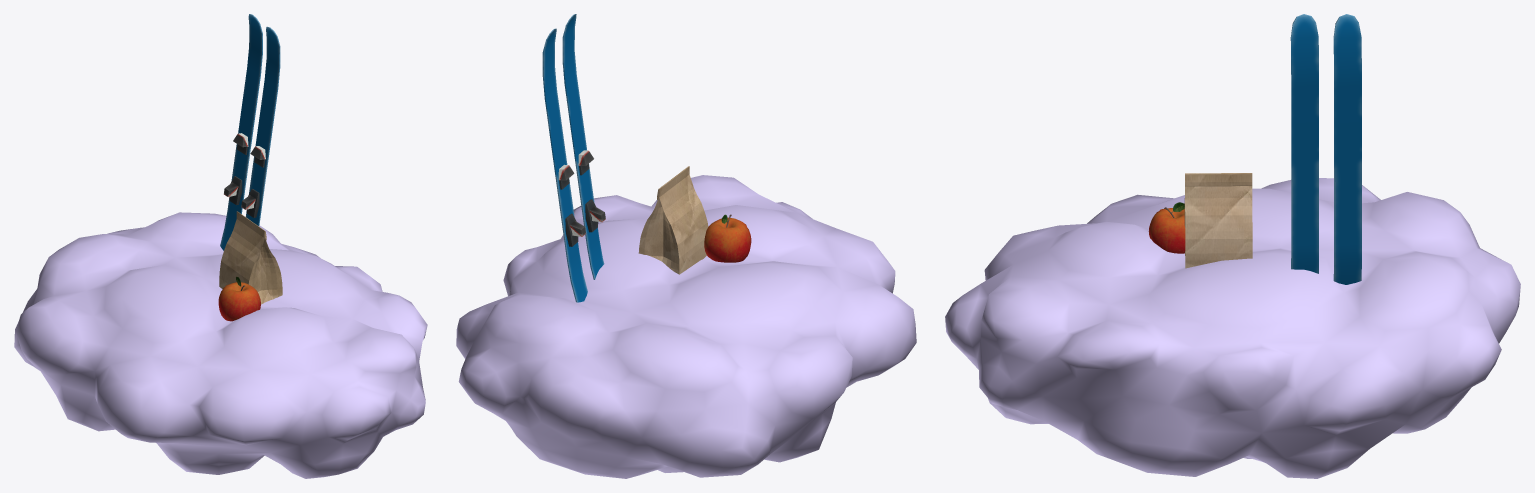
File: ski-coloured-CA24nZ64.glb
3 renders of one model, left to right at view 1: azimuth 30°, elevation 25°; view 2: azimuth 150°, elevation 25°; view 3: azimuth 270°, elevation 25°, orthographic. The views are drawn at different scales.
Visible parts, largest first — view 1: Object_3, Cube_0, ski1, ski1_initialShadingGroup1_0.001, Cube.001; view 2: Object_3, Cube_0, ski1, ski1_initialShadingGroup1_0.001, Cube.001; view 3: Object_3, ski1, ski1_initialShadingGroup1_0.001, Cube_0, Cube.001.
Part boxes in pixels (box(x1,y1,x2,y2)): Object_3: box(14, 212, 427, 478); Cube_0: box(219, 211, 282, 304); ski1: box(220, 14, 262, 250); ski1_initialShadingGroup1_0.001: box(241, 26, 280, 226); Cube.001: box(218, 276, 260, 321); Object_3: box(456, 175, 916, 478); Cube_0: box(638, 166, 708, 274); ski1: box(542, 28, 587, 302); ski1_initialShadingGroup1_0.001: box(562, 14, 605, 279); Cube.001: box(704, 214, 751, 262); Object_3: box(945, 178, 1520, 478); ski1: box(1333, 14, 1361, 284); ski1_initialShadingGroup1_0.001: box(1290, 14, 1318, 273); Cube_0: box(1184, 173, 1252, 268); Cube.001: box(1148, 202, 1185, 253).
Size of the model in its own units: 5.57 by 6.39 by 7.02.
5 materials, 4 textured.
